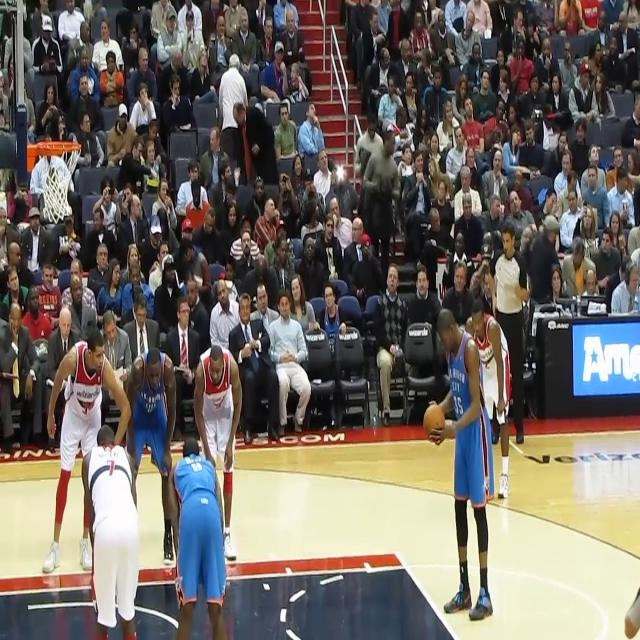ball: (422, 402, 446, 443)
